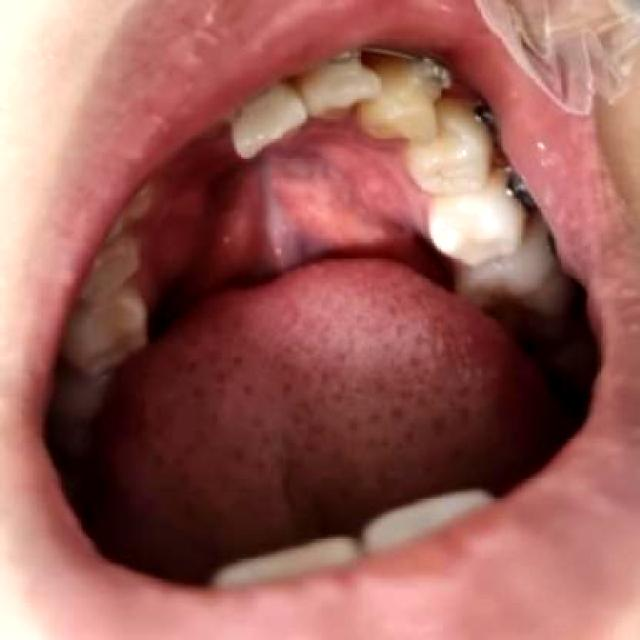Plaque: (419, 154, 466, 193)
